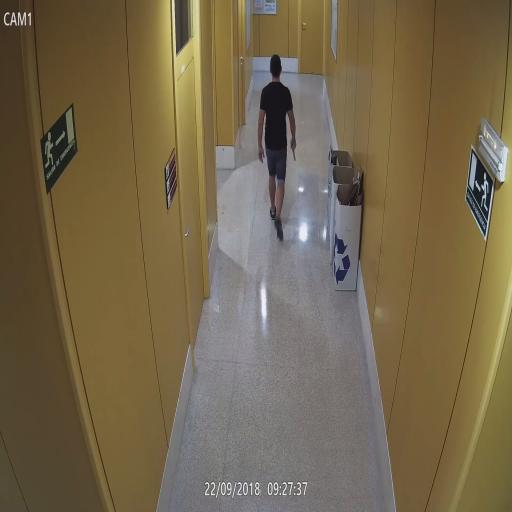Handgun: (290, 135, 298, 162)
